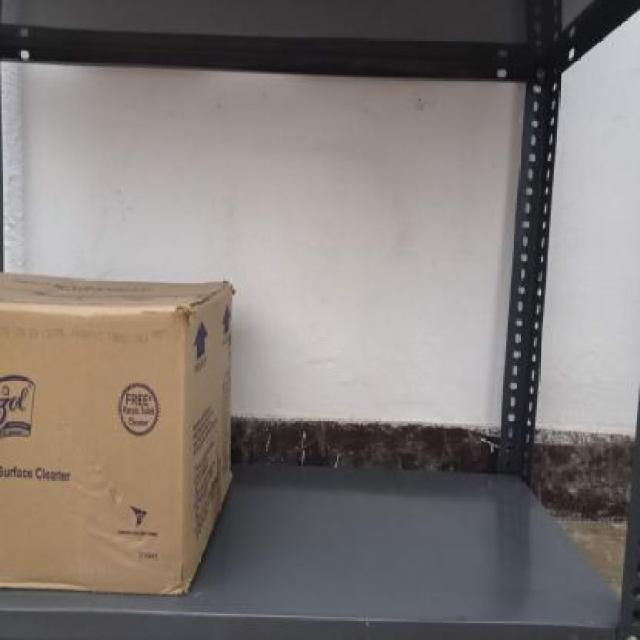box: (0, 311, 186, 591)
